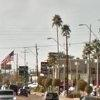Palm tree: (45, 9, 80, 68)
